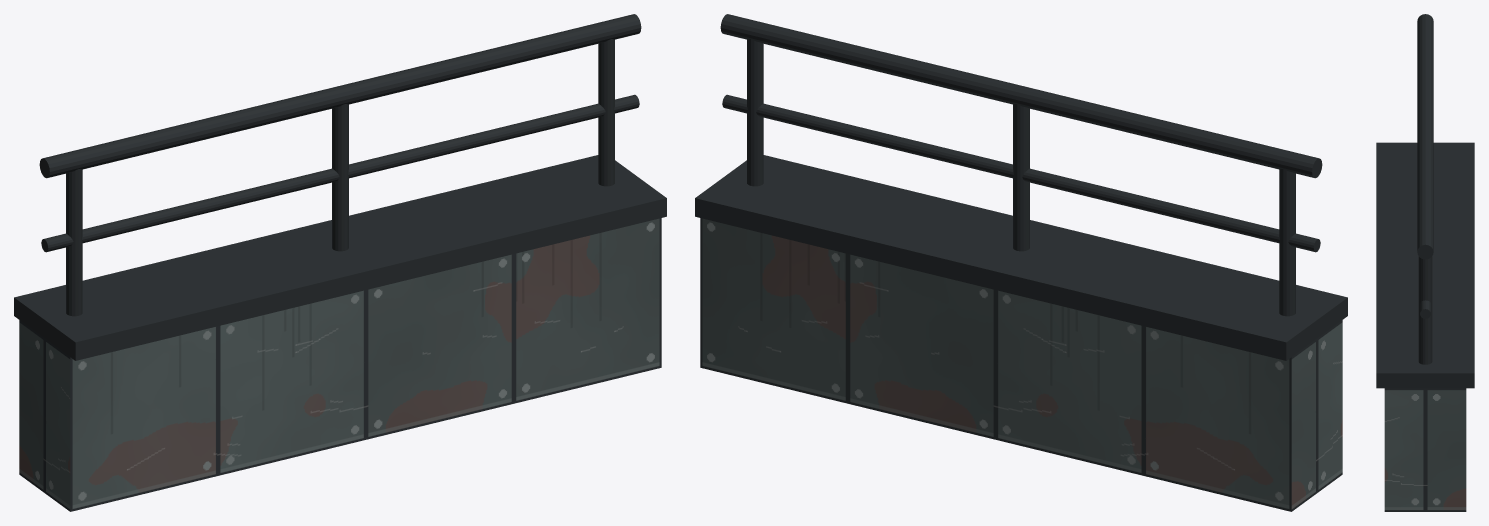
Rendered from wall_stub.glb.
3 views of the same model, side by side, from view 1: azimuth 30°, elevation 25°; view 2: azimuth 150°, elevation 25°; view 3: azimuth 270°, elevation 25° (orthographic). The views are drawn at different scales.
Visible parts, largest first — view 1: wall_stub; view 2: wall_stub; view 3: wall_stub.
Part boxes in pixels (x1=…): wall_stub: x1=14, y1=14, x2=666, y2=511; wall_stub: x1=695, y1=14, x2=1347, y2=511; wall_stub: x1=1376, y1=14, x2=1474, y2=511.
Bounding box in the file's own units: 2 × 1.08 × 0.36.
2 materials, 1 textured.
